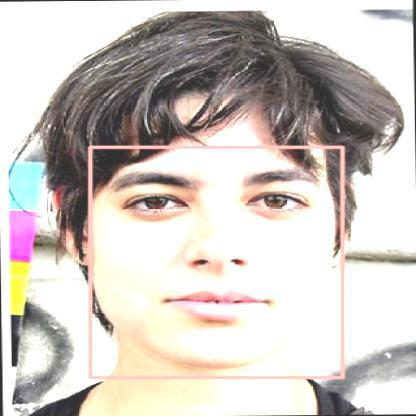without_mask: (90, 147, 342, 377)
